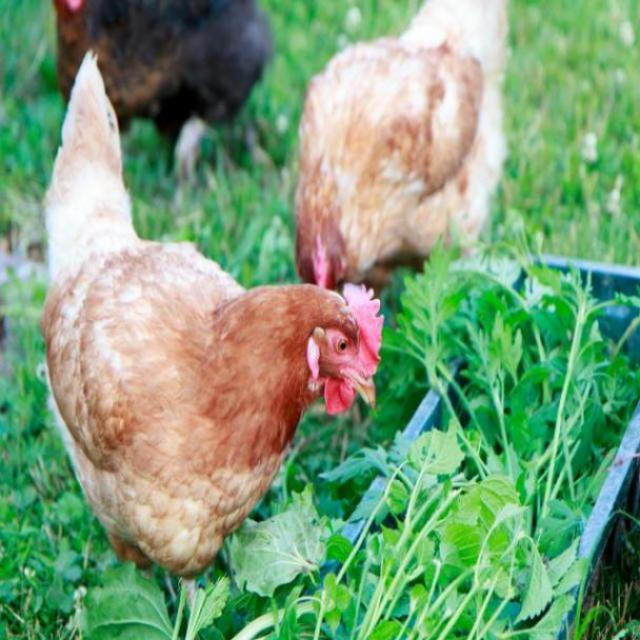Chicken: (33, 68, 381, 600), (294, 0, 519, 294), (50, 0, 274, 196)
